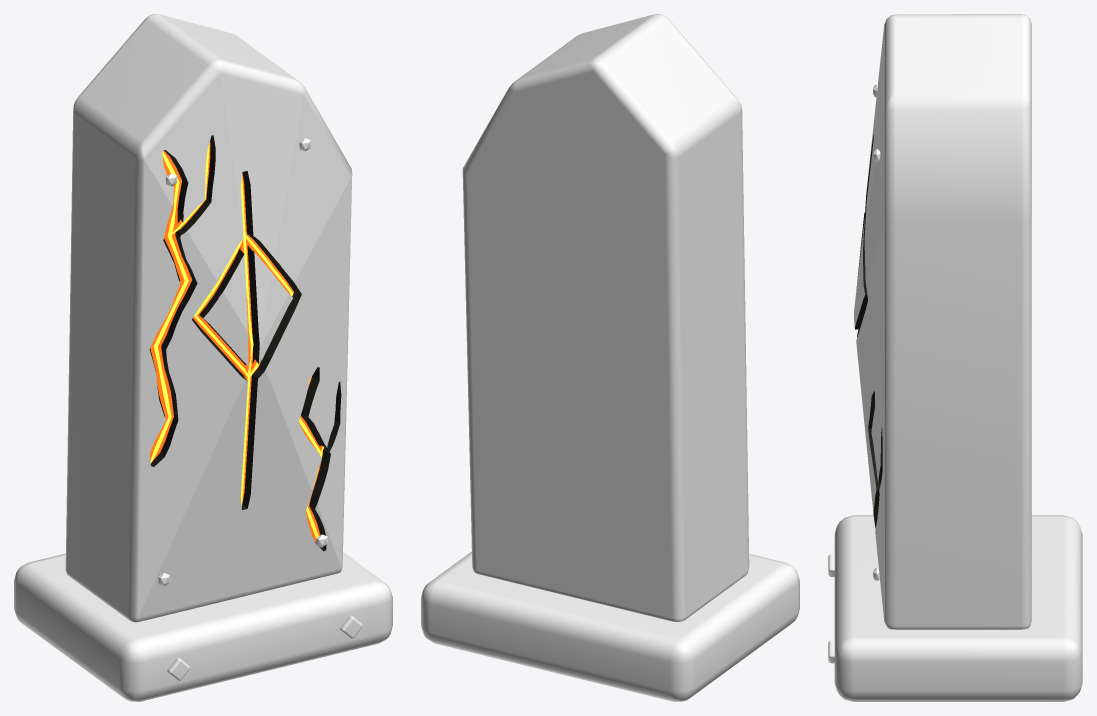
File: AS_24_Runestone.glb
3 views of the same model, side by side, from view 1: azimuth 30°, elevation 25°; view 2: azimuth 150°, elevation 25°; view 3: azimuth 270°, elevation 25° (orthographic). The views are drawn at different scales.
Parts seen in each view (by area): view 1: AS_24_Runestone__surface-carved rune monolith, AS_24_Runestone__foot, AS_24_Runestone__projected molten fracture.001, AS_24_Runestone__projected hot fracture.001, AS_24_Runestone__projected hot rune.001, AS_24_Runestone__projected molten rune.001, AS_24_Runestone__projected molten rune.002; view 2: AS_24_Runestone__surface-carved rune monolith, AS_24_Runestone__foot; view 3: AS_24_Runestone__surface-carved rune monolith, AS_24_Runestone__foot.
Boxes of the visible parts, <box> form: AS_24_Runestone__surface-carved rune monolith: <box>65,14,352,622</box>; AS_24_Runestone__foot: <box>14,552,392,701</box>; AS_24_Runestone__projected molten fracture.001: <box>150,150,192,462</box>; AS_24_Runestone__projected hot fracture.001: <box>150,151,188,463</box>; AS_24_Runestone__projected hot rune.001: <box>240,176,253,505</box>; AS_24_Runestone__projected molten rune.001: <box>240,173,252,504</box>; AS_24_Runestone__projected molten rune.002: <box>193,240,247,376</box>; AS_24_Runestone__surface-carved rune monolith: <box>462,14,749,621</box>; AS_24_Runestone__foot: <box>421,551,799,701</box>; AS_24_Runestone__surface-carved rune monolith: <box>854,14,1031,629</box>; AS_24_Runestone__foot: <box>834,515,1082,701</box>.
Size of the model in its own units: 1.1 by 2.33 by 0.871.
